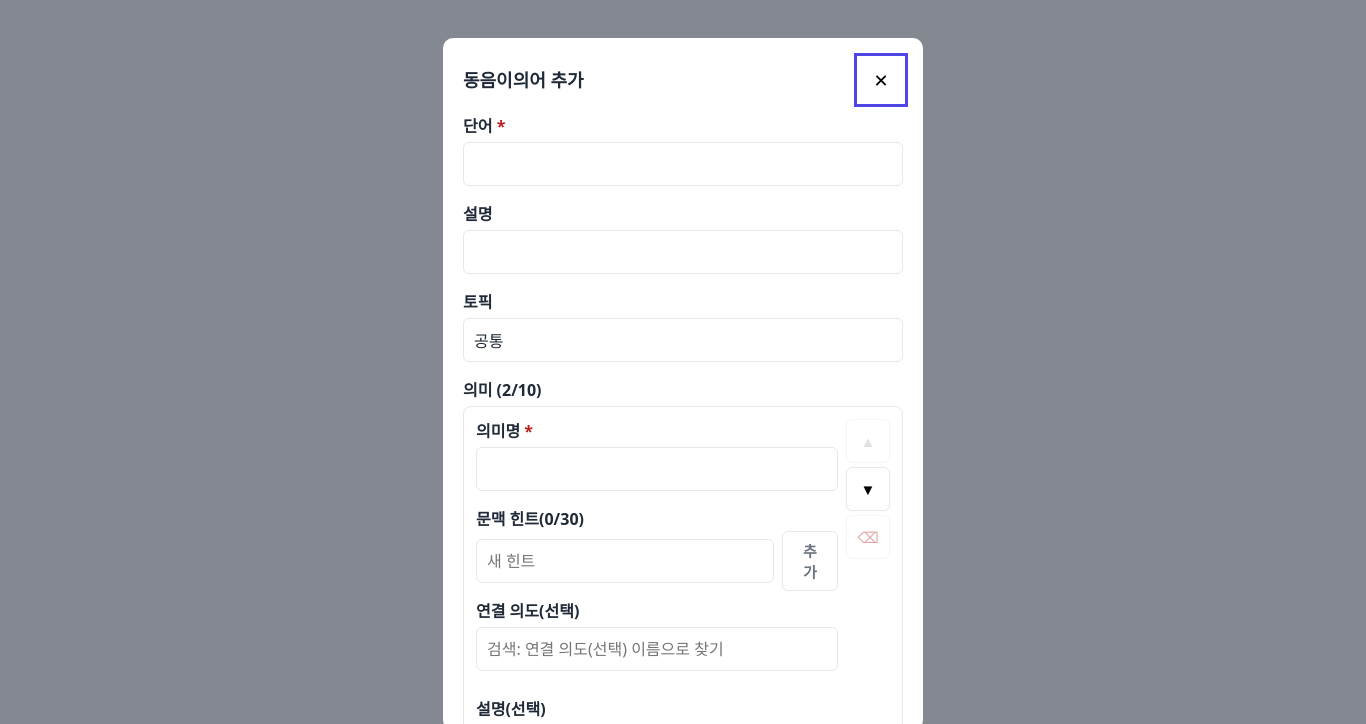
Test: HomonymEditModal — INVALID_REFERENCE 구분(H-1) › field가 'topicId'면 TopicSelectField에 인라인 오류가 뜨고, 기존 연결 의도 오류 문구는 뜨지 않는다
The image size is (1366, 724).
Type "배" into the field labelled "단어 *" at (683, 164), box [463,142,903,186]
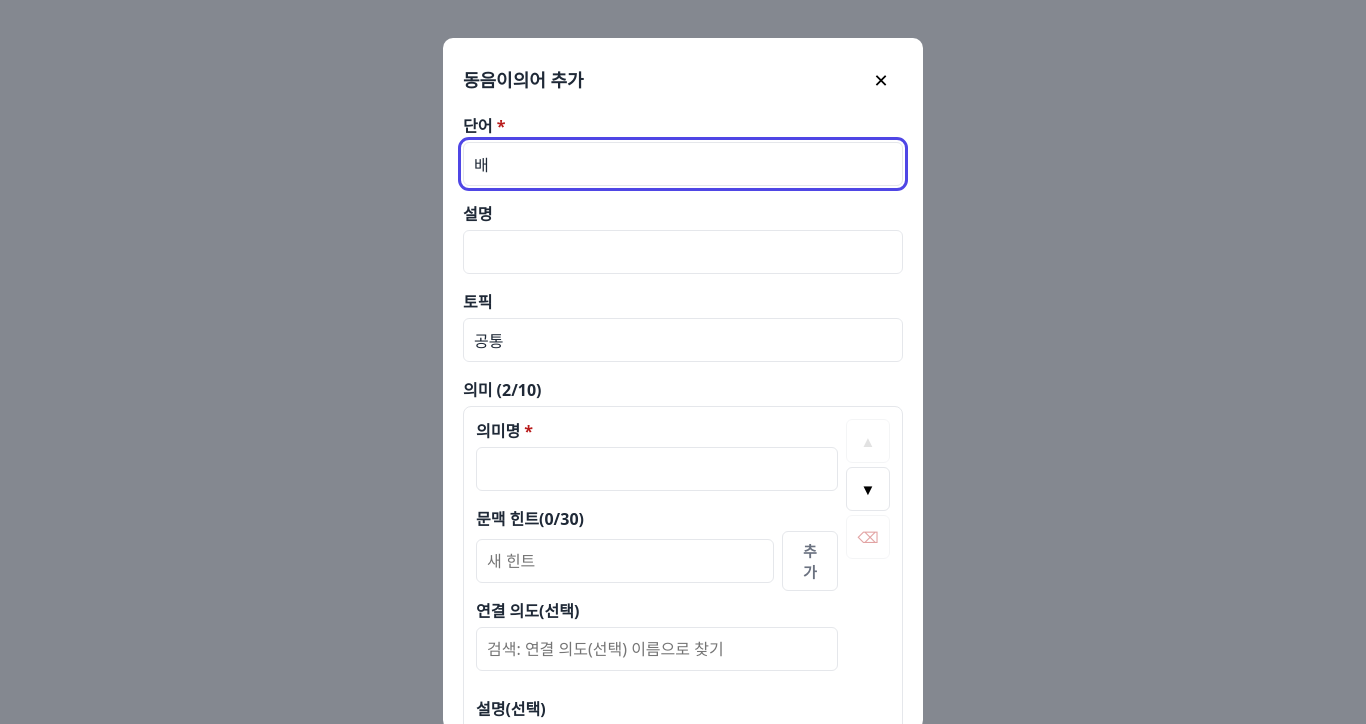
Type "뜻1" into the field labelled "의미명 *" at (657, 469), box [476,447,838,491]
(page scrolled)
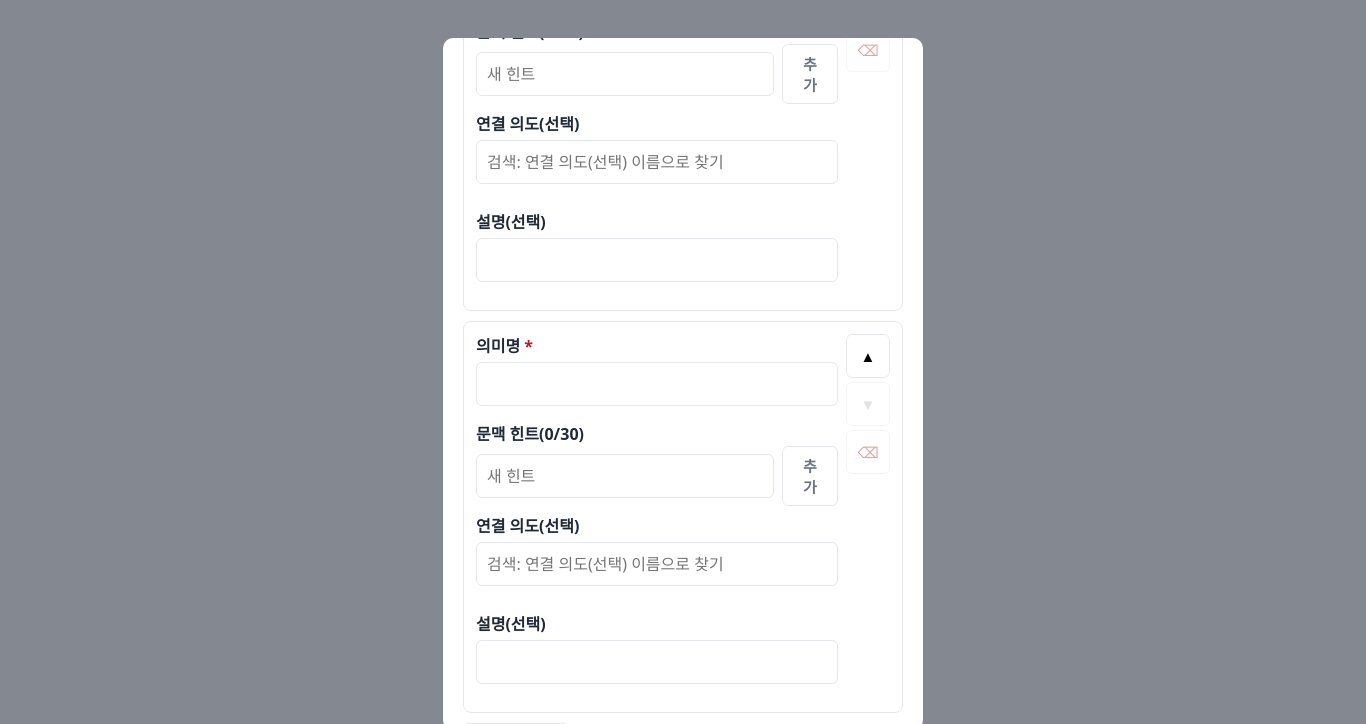
Type "뜻2" into the field labelled "의미명 *" at (657, 384), box [476,362,838,406]
(page scrolled)
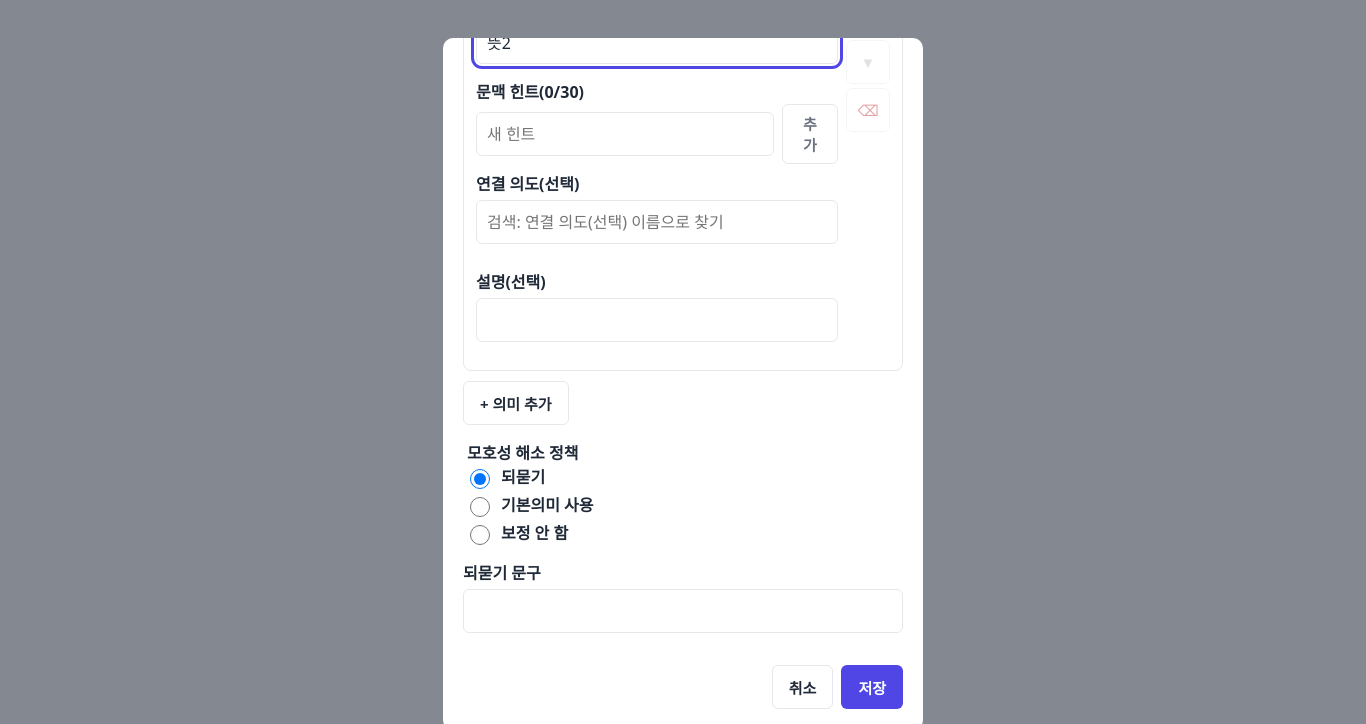
Click the button "저장" at (872, 687), box [841,665,903,709]
(page scrolled)
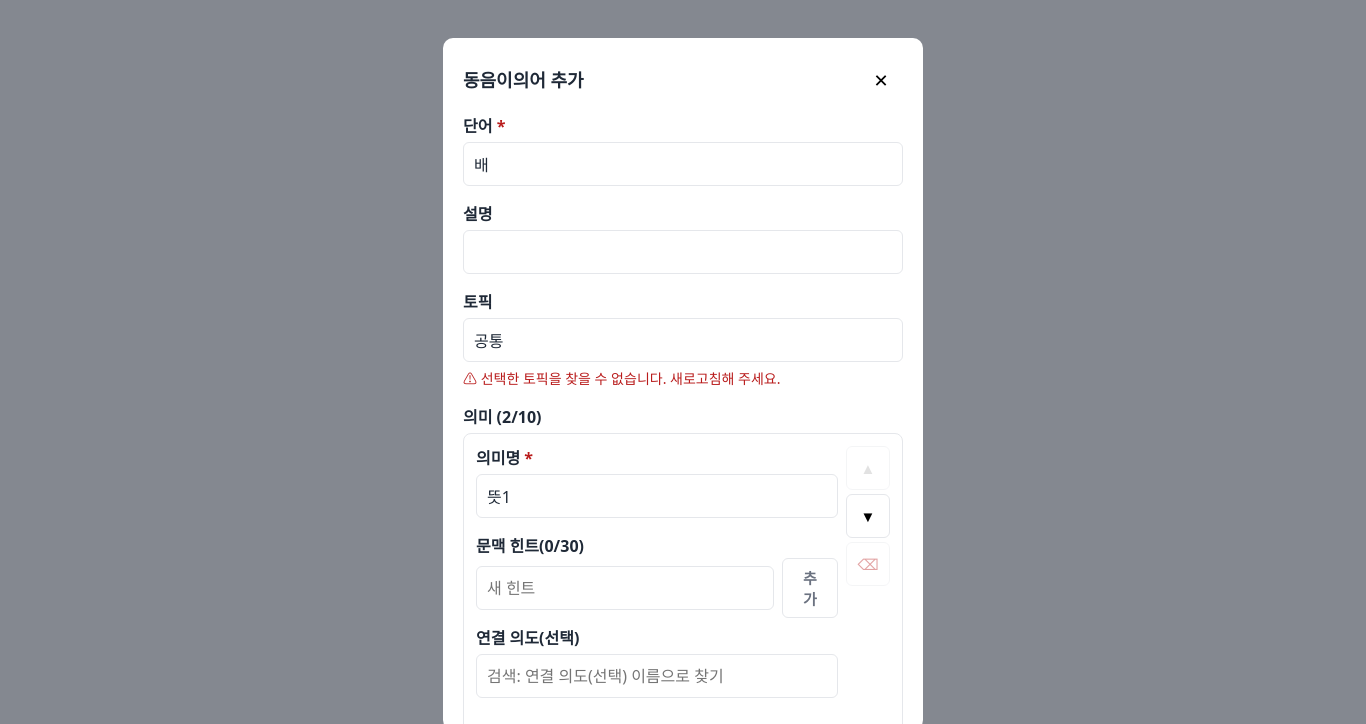
Result: the text "선택한 토픽을 찾을 수 없습니다. 새로고침해 주세요." is shown at [481,369,780,388]
